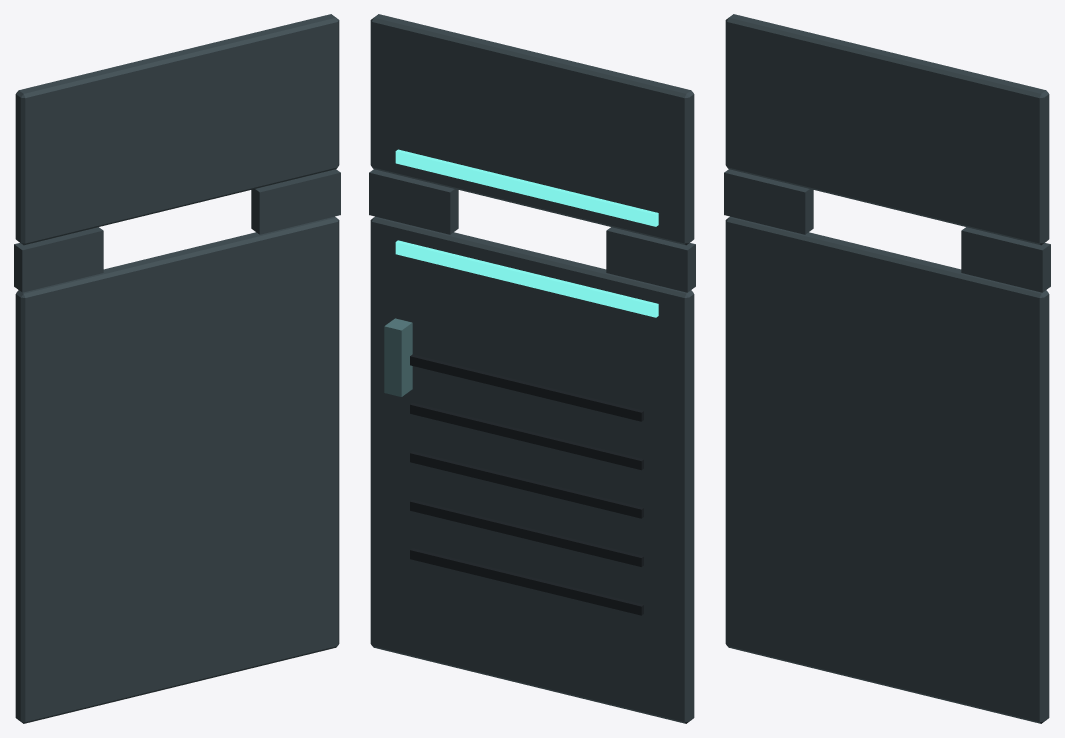
File: Env_ClosetDoor.fbx
3 views of the same model, side by side, from view 1: azimuth 30°, elevation 25°; view 2: azimuth 150°, elevation 25°; view 3: azimuth 330°, elevation 25° (orthographic).
Parts seen in each view (by area): view 1: Env_ClosetDoor; view 2: Env_ClosetDoor; view 3: Env_ClosetDoor.
Part boxes in pixels (<box>): Env_ClosetDoor: <box>14,14,340,723</box>; Env_ClosetDoor: <box>369,14,695,723</box>; Env_ClosetDoor: <box>724,14,1050,723</box>.
Size of the model in its own units: 1.1 by 0.115 by 2.08.
